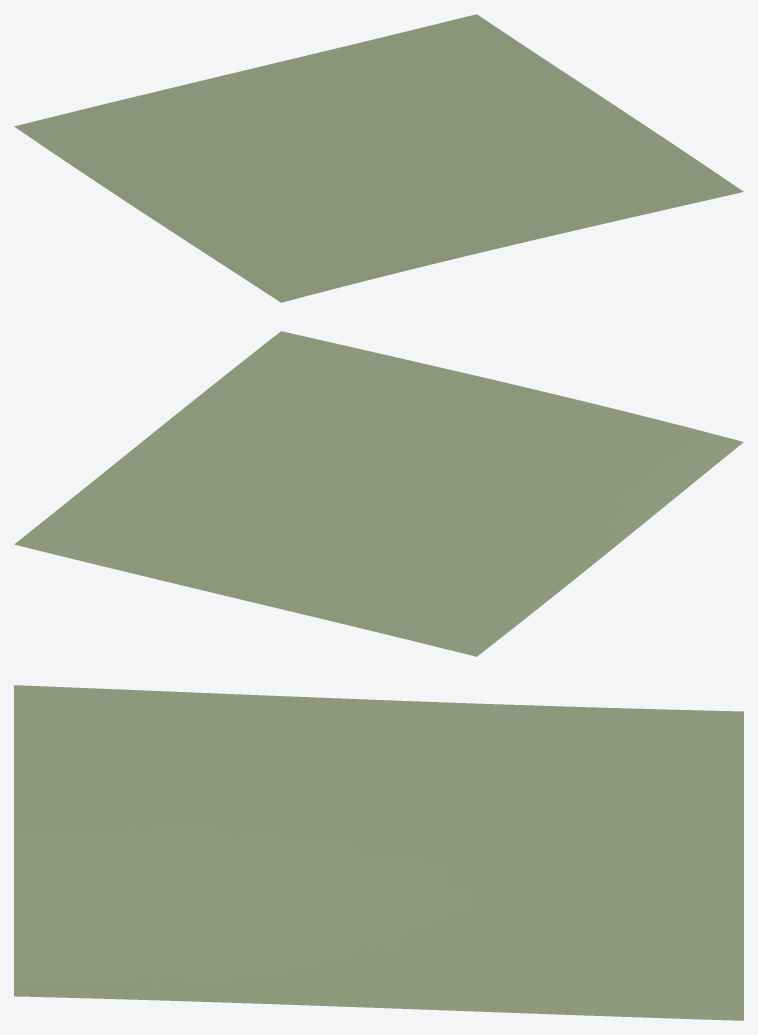
File: expanse-0-23.glb
The picture shows the model from 3 angles, top to bottom: view 1: azimuth 30°, elevation 25°; view 2: azimuth 150°, elevation 25°; view 3: azimuth 270°, elevation 25°; orthographic projection. The views are drawn at different scales.
Parts seen in each view (by area): view 1: expanse-0-23; view 2: expanse-0-23; view 3: expanse-0-23.
Boxes of the visible parts, x1,y1,x2,y2 form: expanse-0-23: (14,14,743,302); expanse-0-23: (14,331,743,656); expanse-0-23: (14,685,743,1020).
Size of the model in its own units: 256 by 11.4 by 256.
